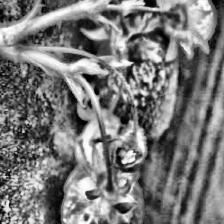Gray Mold: (88, 115, 147, 170)
